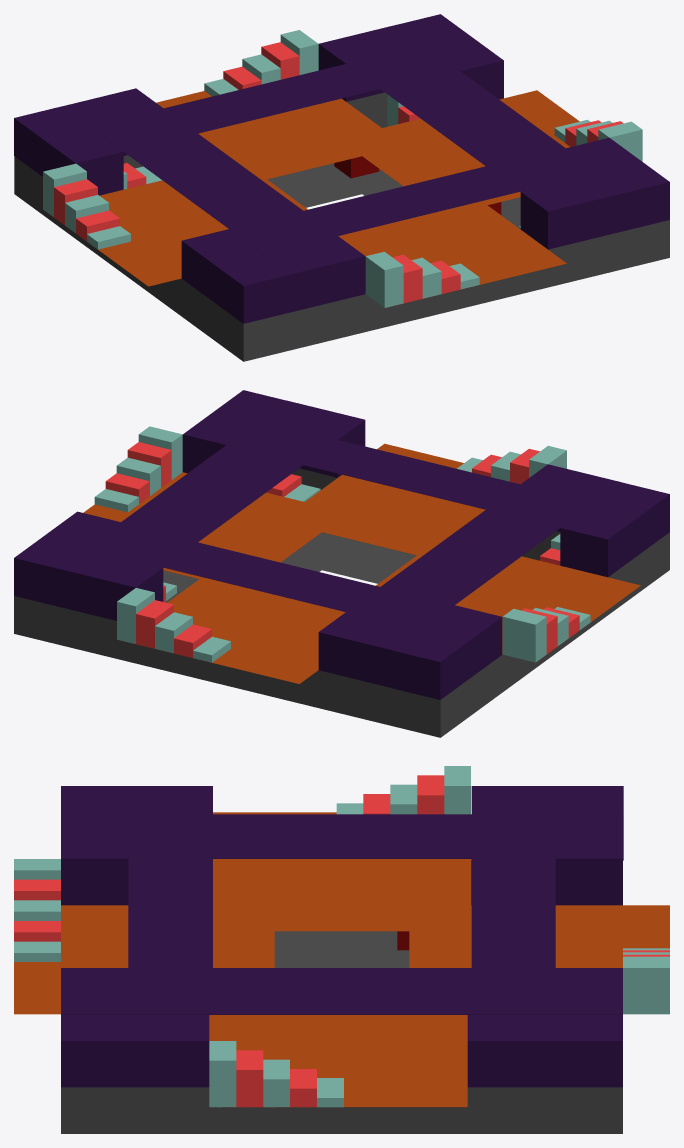
Rendered from arene_tour 3.FBX.
The picture shows the model from 3 angles, top to bottom: view 1: azimuth 30°, elevation 25°; view 2: azimuth 150°, elevation 25°; view 3: azimuth 270°, elevation 25°; orthographic projection. The views are drawn at different scales.
Visible parts, largest first — view 1: Plane010, Plane013, Box003, Plane005, Plane004, Plane003, Plane006, Plane012, Plane011, Box095, Box089, Box090 (+24 smaller); view 2: Plane010, Plane013, Box002, Plane005, Plane004, Plane003, Box096, Box006, Plane006, Plane012, Plane011, Box090 (+24 smaller); view 3: Plane010, Plane013, Box004, Plane003, Plane006, Box092, Plane004, Plane005, Plane012, Plane011, Box094, Box091 (+20 smaller).
Boxes of the visible parts, x1,y1,x2,y2 form: Plane010: (319,24,625,211); Plane013: (62,88,364,274); Box003: (216,220,669,361); Plane005: (156,91,405,180); Plane004: (338,205,566,307); Plane003: (59,164,345,286); Plane006: (350,90,579,215); Plane012: (304,166,519,235); Plane011: (164,64,379,133); Box095: (216,254,365,323); Box089: (520,172,669,249); Box090: (181,229,290,322); Plane010: (58,400,364,587); Plane013: (319,464,621,650); Box002: (61,607,467,737); Plane005: (132,577,341,684); Plane004: (305,443,485,556); Plane003: (337,555,640,654); Box096: (393,605,502,699); Box006: (393,532,669,737); Plane006: (83,472,347,578); Plane012: (303,440,519,509); Plane011: (164,542,379,611); Box090: (560,482,669,577); Plane010: (61,968,622,1014); Plane013: (61,814,622,858); Box004: (61,1087,622,1133); Plane003: (213,812,470,931); Plane006: (209,1015,467,1107); Box092: (467,1015,622,1087); Plane004: (14,905,274,1014); Plane005: (409,905,669,967); Plane012: (128,858,212,967); Plane011: (471,858,555,967); Box094: (61,1015,209,1087); Box091: (555,786,622,905).
Size of the model in its own units: 5181 by 763 by 4874.
